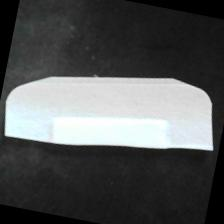Cut: (1, 44, 224, 181)
